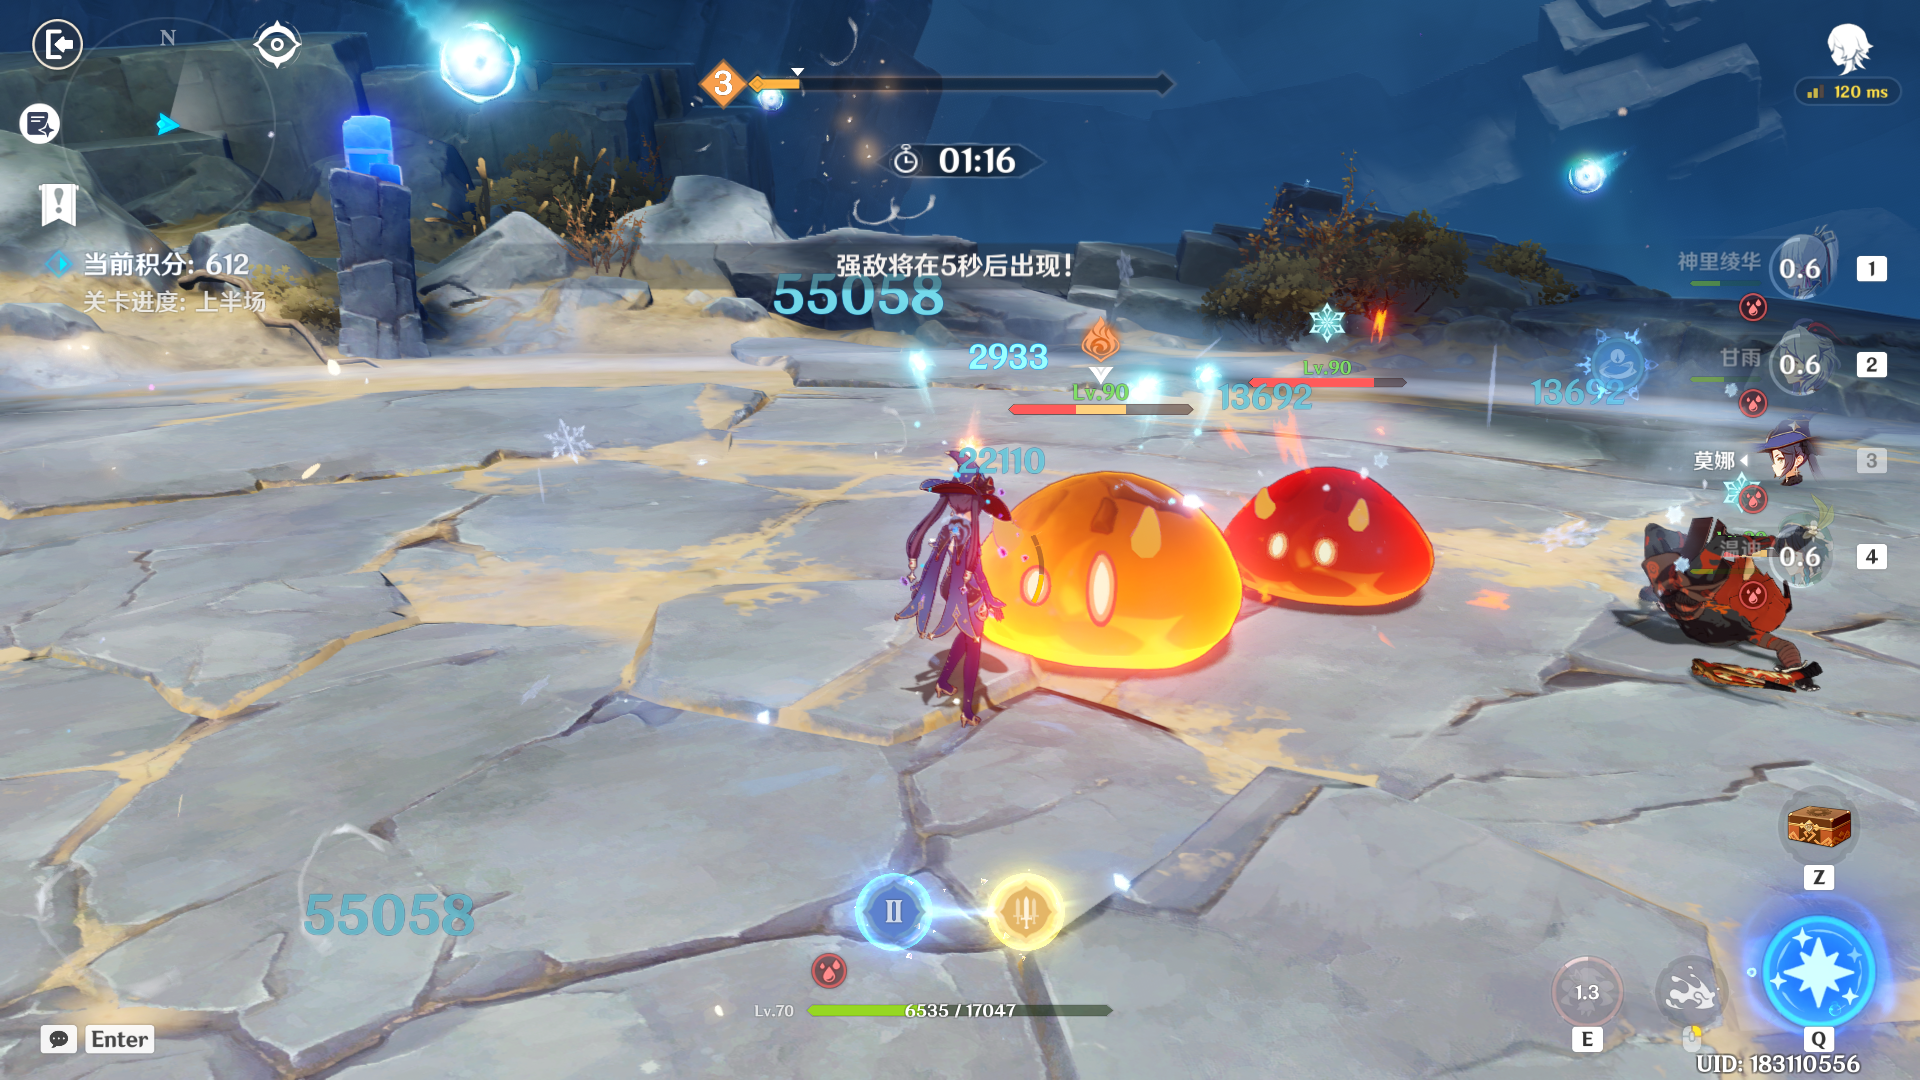character: (894, 427, 1052, 731)
slime: (1175, 417, 1480, 646), (973, 454, 1247, 705)
